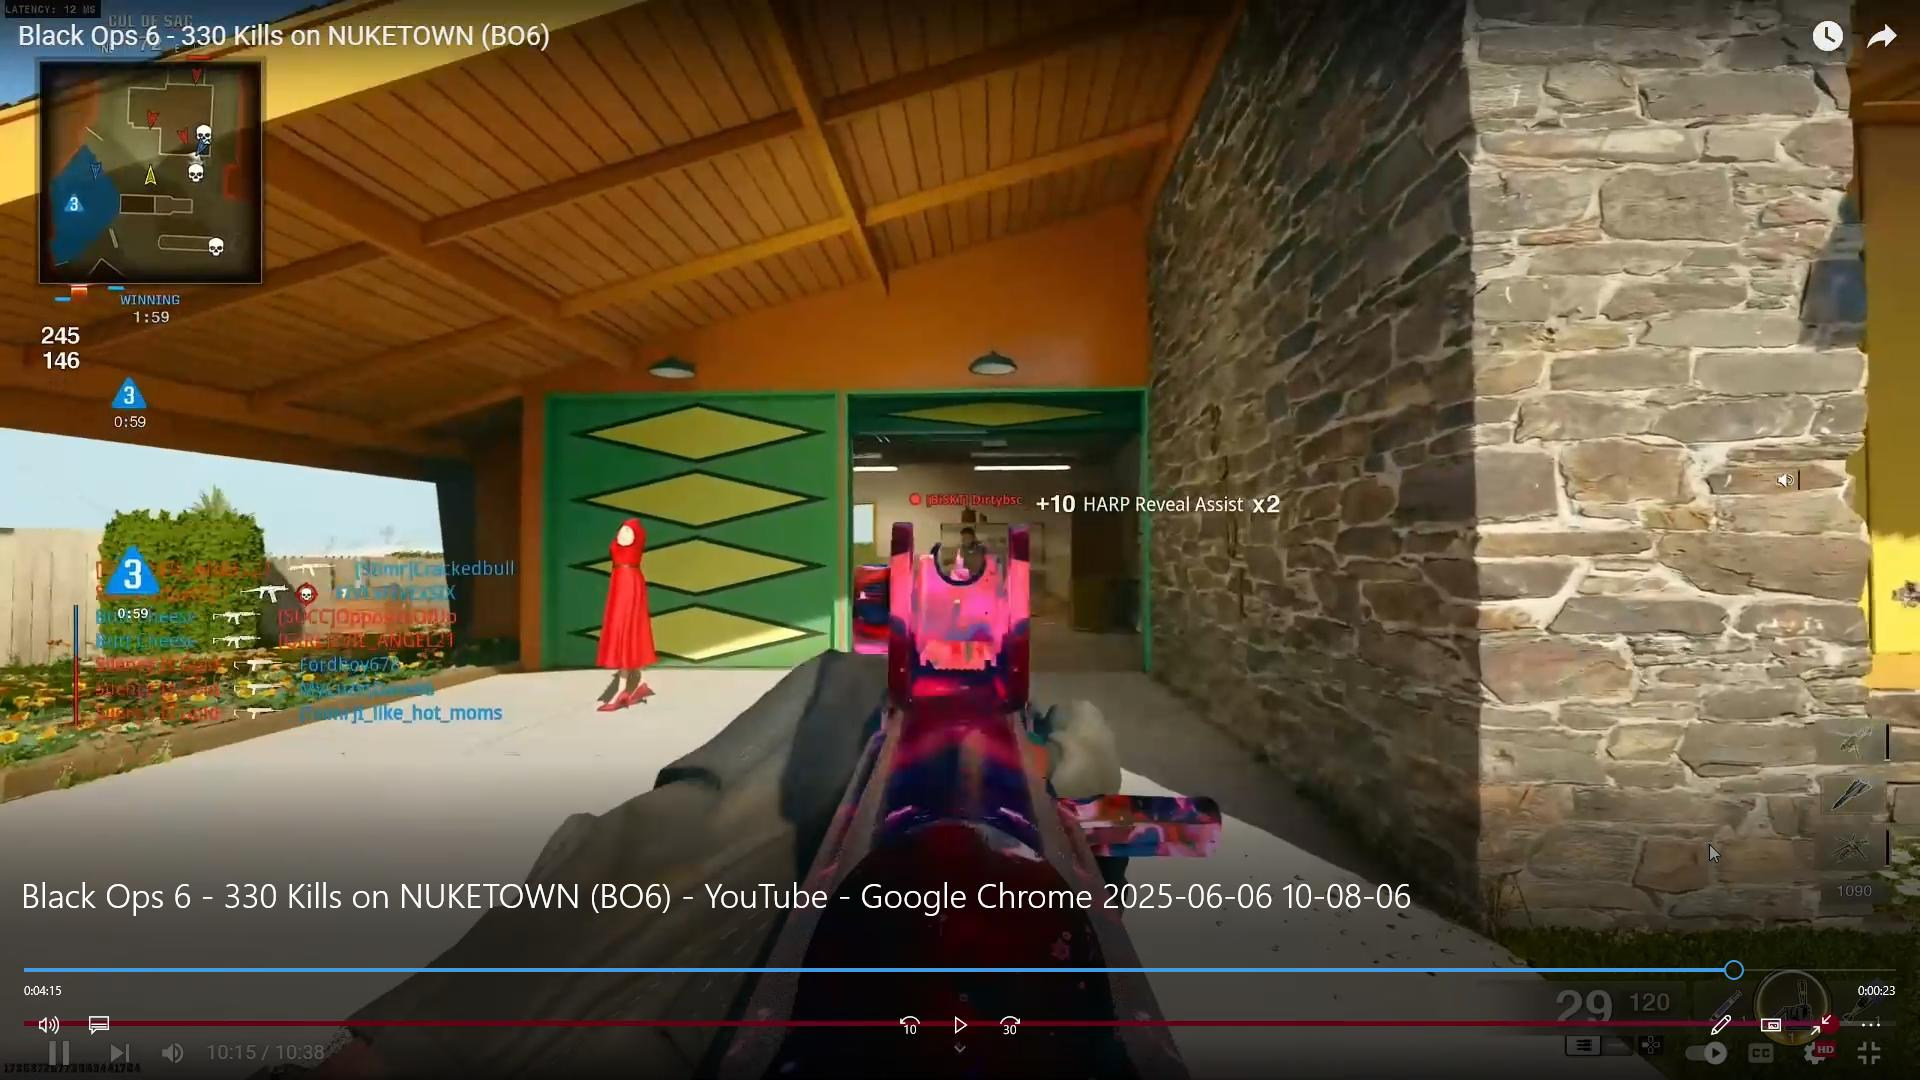Enemy: (955, 517, 981, 563)
